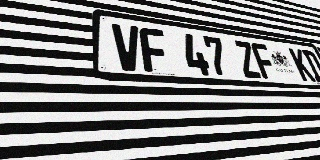4: (180, 33, 211, 76)
7: (201, 36, 232, 77)
D: (301, 50, 320, 82)
F: (139, 27, 170, 73), (250, 42, 279, 80)
K: (288, 48, 316, 82)
V: (112, 23, 143, 72)
Z: (233, 40, 263, 79)
